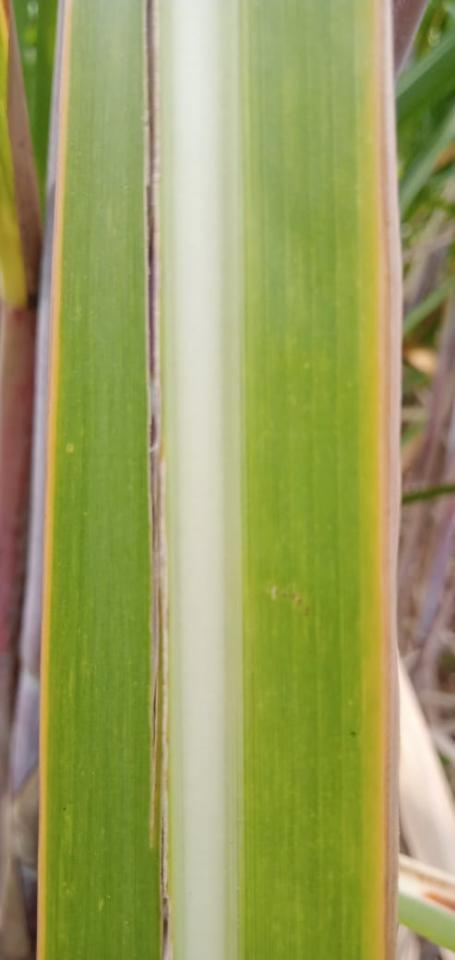Rust: (144, 0, 156, 387), (150, 448, 164, 673), (161, 817, 169, 959), (152, 679, 157, 746), (150, 413, 158, 450)
Yellow: (36, 0, 71, 959), (363, 0, 393, 959)
